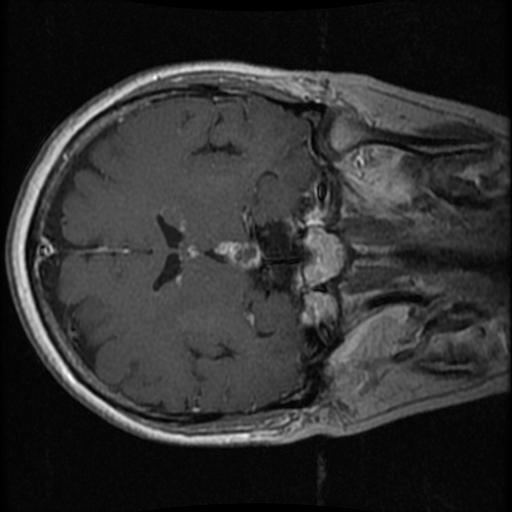pituitary tumour: (216, 240, 257, 270)
